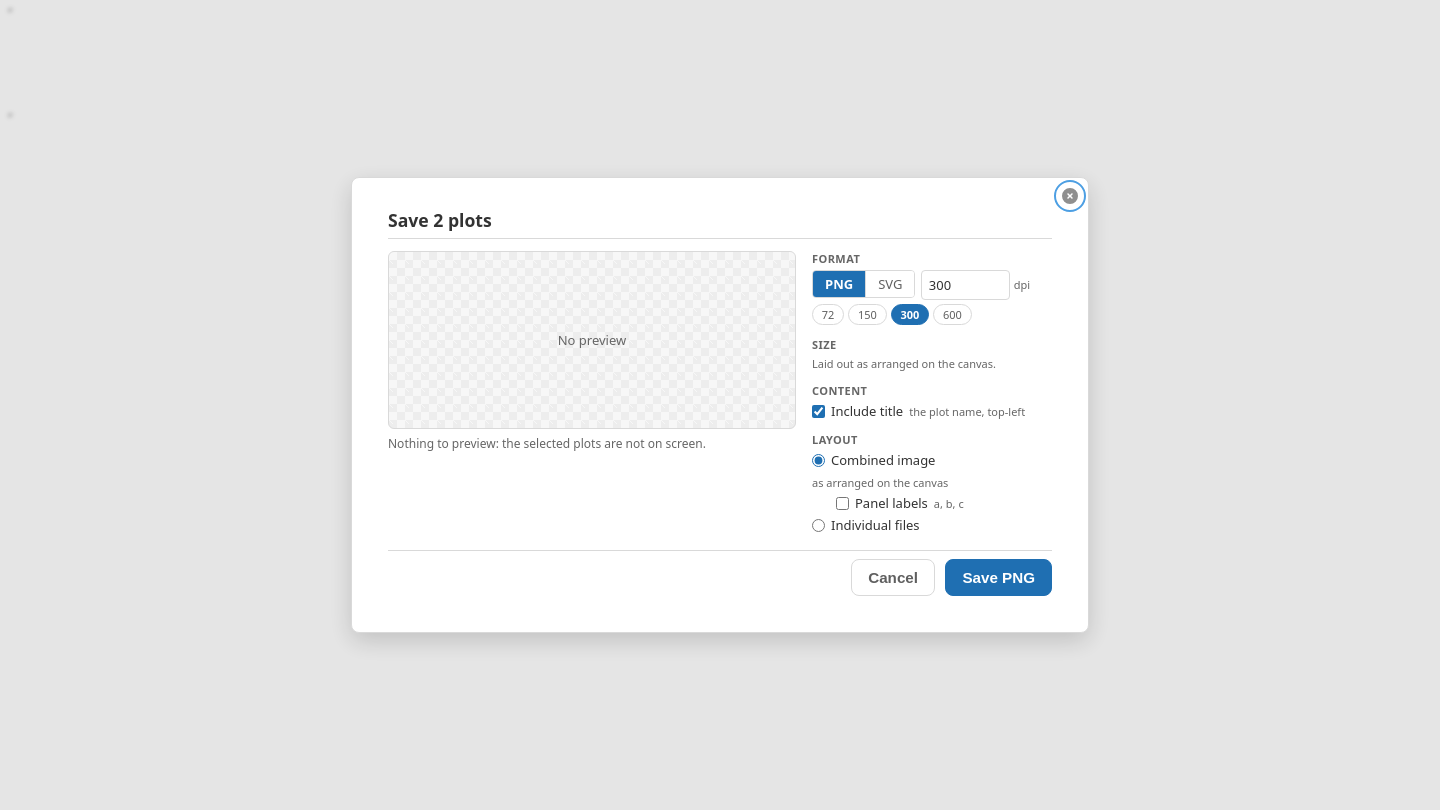
Test case: SavePlot dialog: dimensions › has no dimension fields for a combined figure, and says why
expect the text with class "dims-note" shows "as arranged on the canvas": met, box [812,356,996,371]
Click the radio button labelled "Individual files" at point(818, 525), box [812,519,825,532]
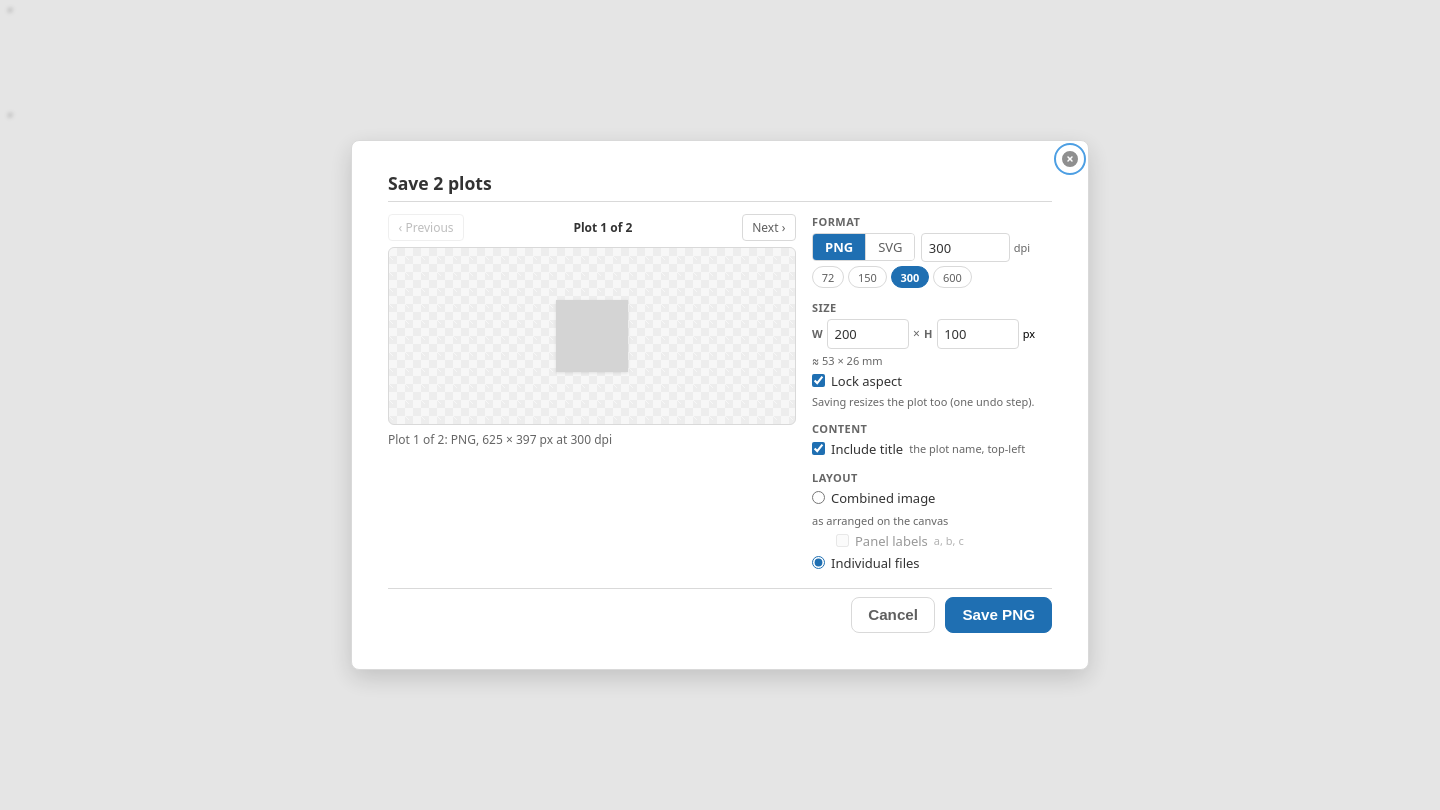
expect the text with class "dims-note" is gone: met
